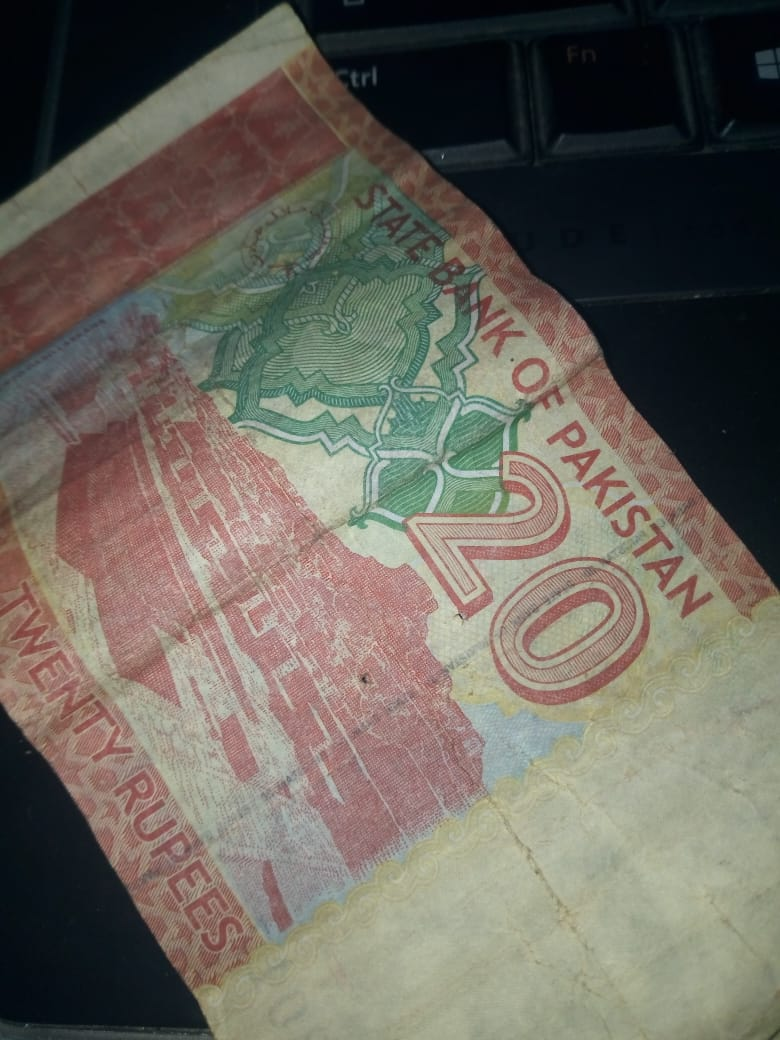20 rupee: (32, 22, 735, 1040)
